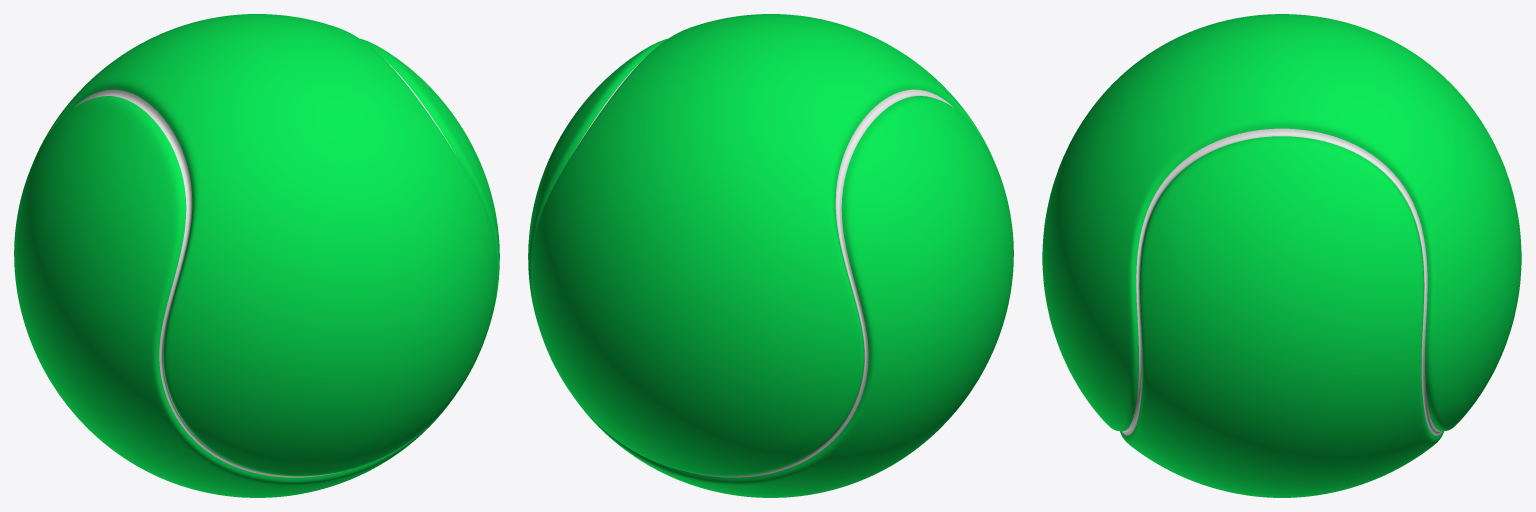
File: TennisBallShoot.fbx
3 views of the same model, side by side, from view 1: azimuth 30°, elevation 25°; view 2: azimuth 150°, elevation 25°; view 3: azimuth 270°, elevation 25° (orthographic).
Parts seen in each view (by area): view 1: Cube; view 2: Cube; view 3: Cube.
Part boxes in pixels (bbox=[...]): Cube: bbox=[14, 14, 499, 497]; Cube: bbox=[528, 14, 1013, 497]; Cube: bbox=[1042, 14, 1521, 497].
Size of the model in its own units: 13.66 by 13.69 by 13.58.
